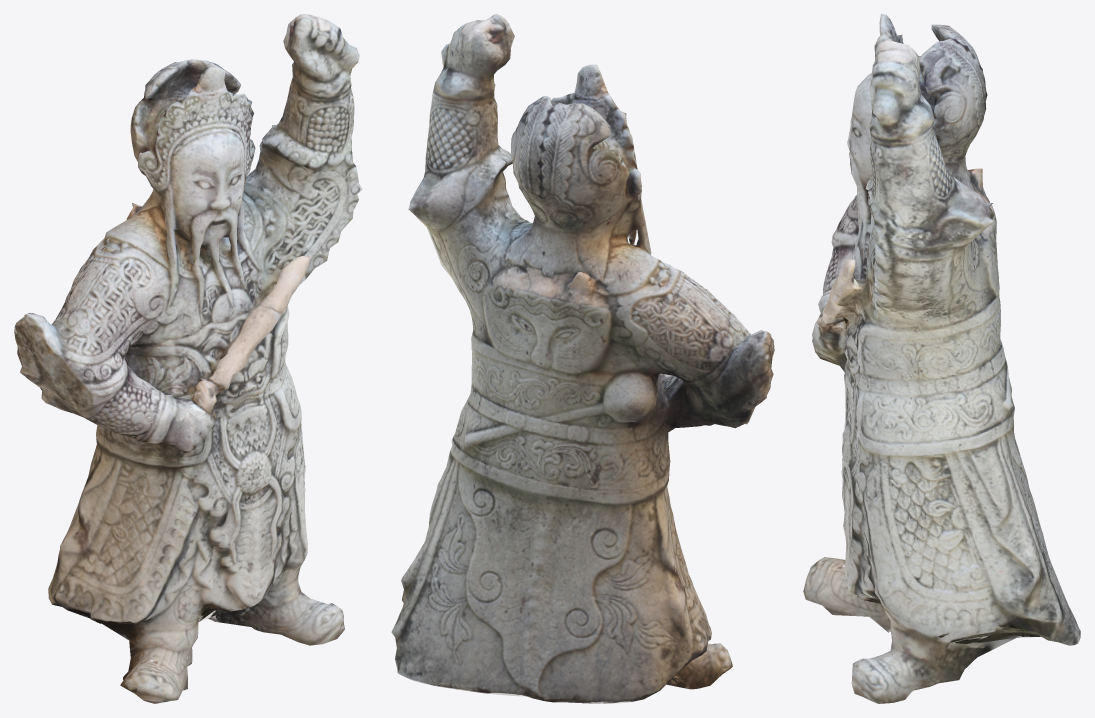
The model's file is secret-poupee-wat-arun.glb.
3 renders of one model, left to right at view 1: azimuth 30°, elevation 25°; view 2: azimuth 150°, elevation 25°; view 3: azimuth 270°, elevation 25°, orthographic. The views are drawn at different scales.
Parts seen in each view (by area): view 1: Object_4; view 2: Object_4; view 3: Object_4.
Boxes of the visible parts, x1=… form: Object_4: x1=14, y1=14, x2=362, y2=703; Object_4: x1=391, y1=14, x2=774, y2=703; Object_4: x1=803, y1=14, x2=1080, y2=703.
Size of the model in its own units: 20.33 by 36.43 by 13.96.
1 material, 1 textured.
